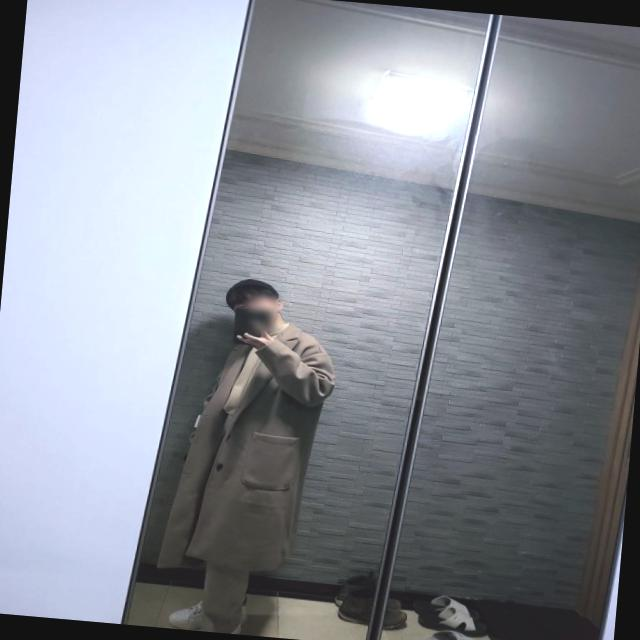coat: (158, 312, 341, 584)
slacks: (196, 556, 248, 634)
